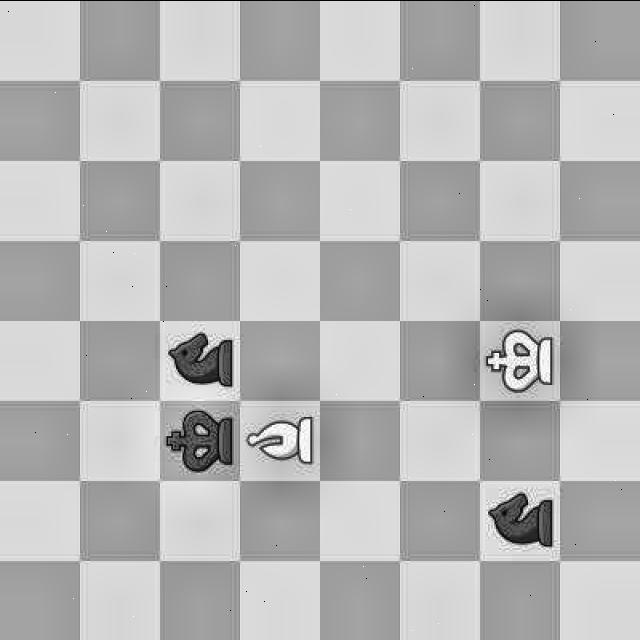Black Knight: (479, 486, 554, 554), (167, 331, 234, 392)
black king: (168, 414, 234, 470)
white bishop: (242, 400, 321, 470)
white king: (483, 325, 556, 395)
